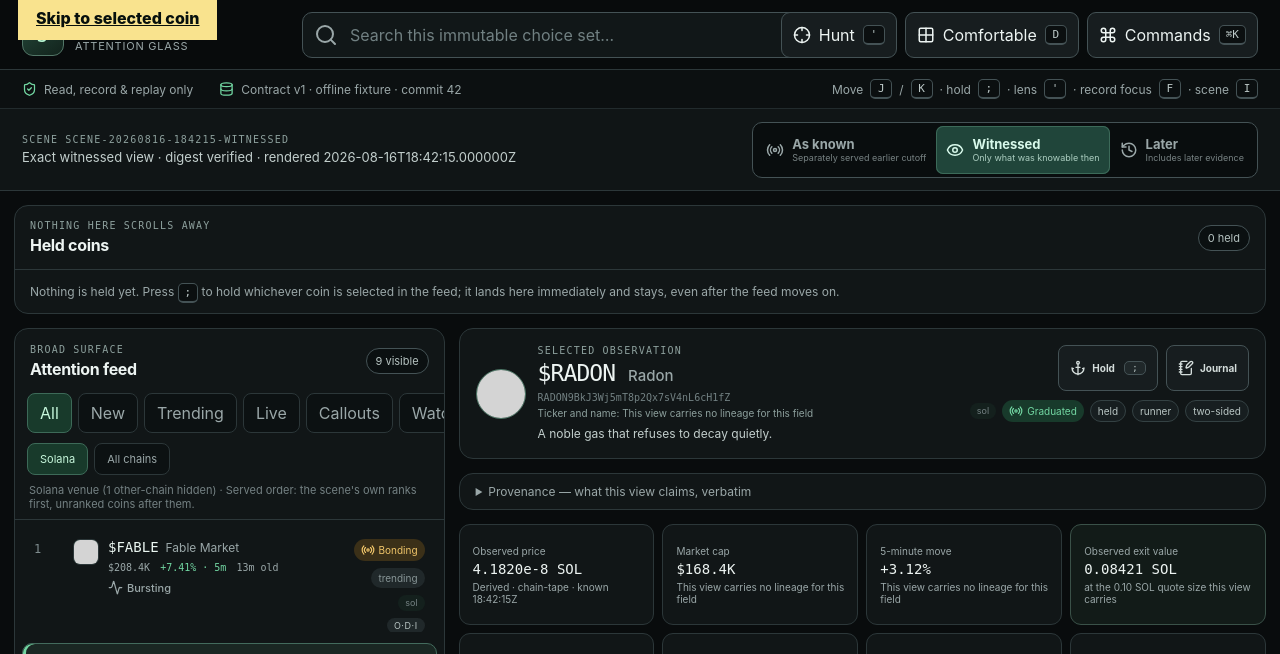
Test: accessibility-first glass › opens a view-only command surface and toggles provenance
Expected: the heading "$RADON Radon" is shown, top-left (538, 360), bottom-right (674, 386)
Type keys "{Meta>}k{/Meta}"
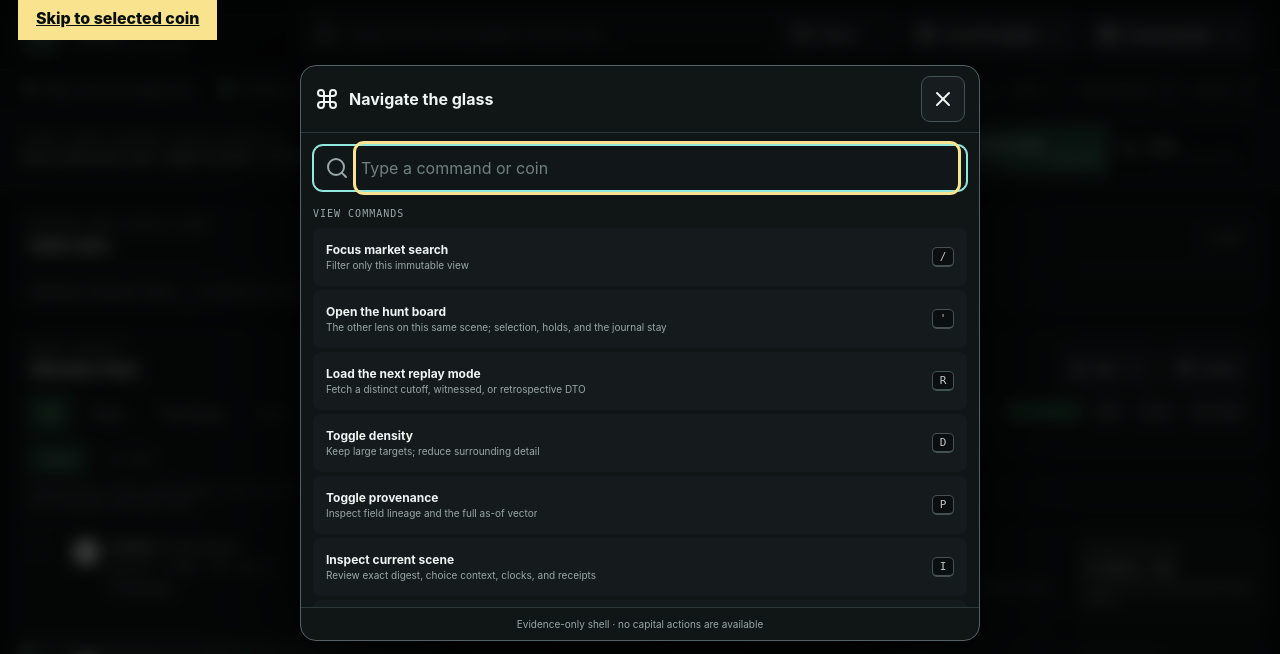
Expected: the text "Evidence-only shell · no capital actions are available" is shown, top-left (301, 607), bottom-right (979, 640)
Click the button "Toggle provenance" at [382, 498], box top-left (313, 476), bottom-right (967, 534)
(page scrolled)
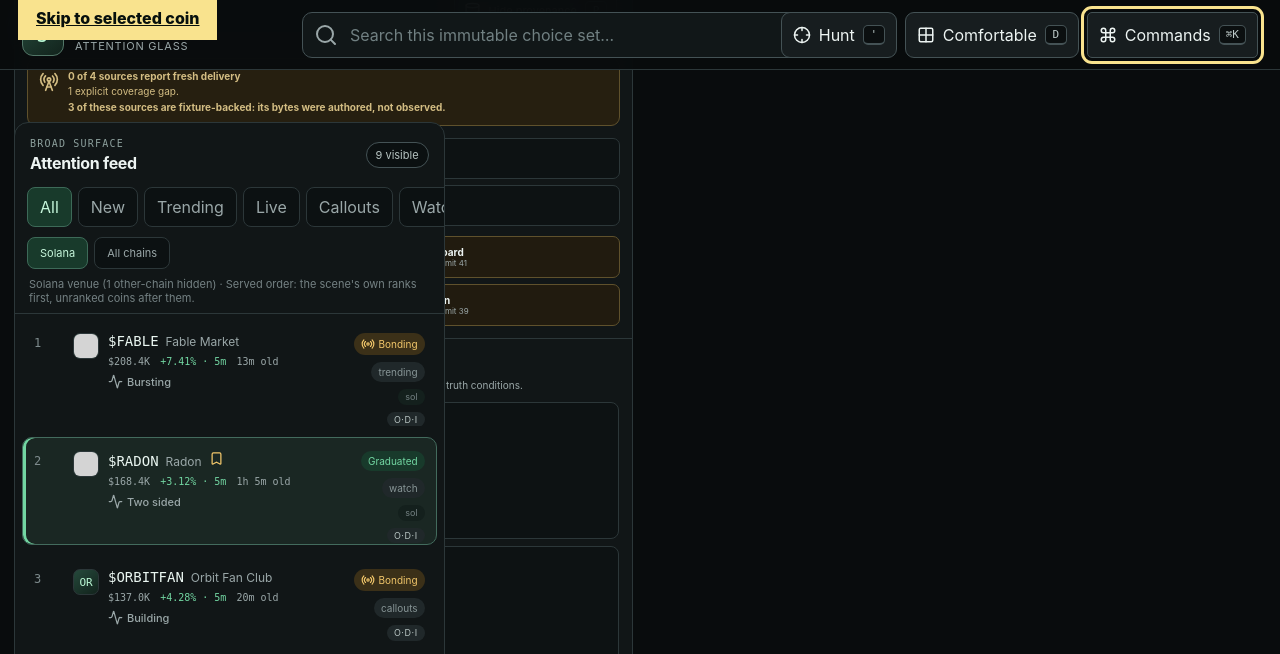
Expected: the heading "$RADON field provenance" is shown, top-left (28, 352), bottom-right (194, 368)
